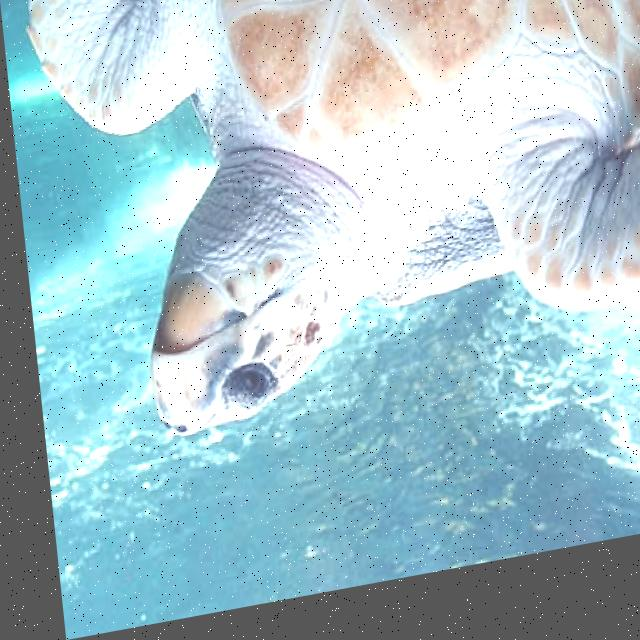sea turtle: (104, 0, 640, 180), (114, 198, 364, 475), (458, 136, 640, 350), (2, 0, 170, 173)
